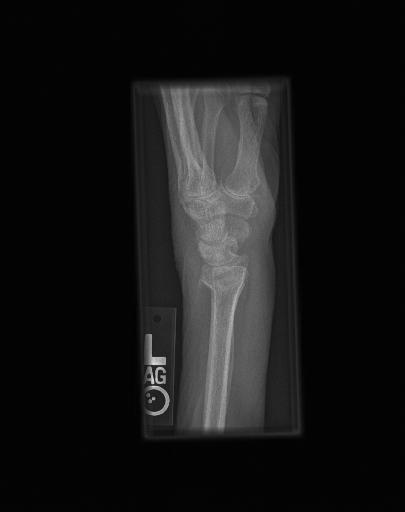fractured: (194, 268, 249, 294)
